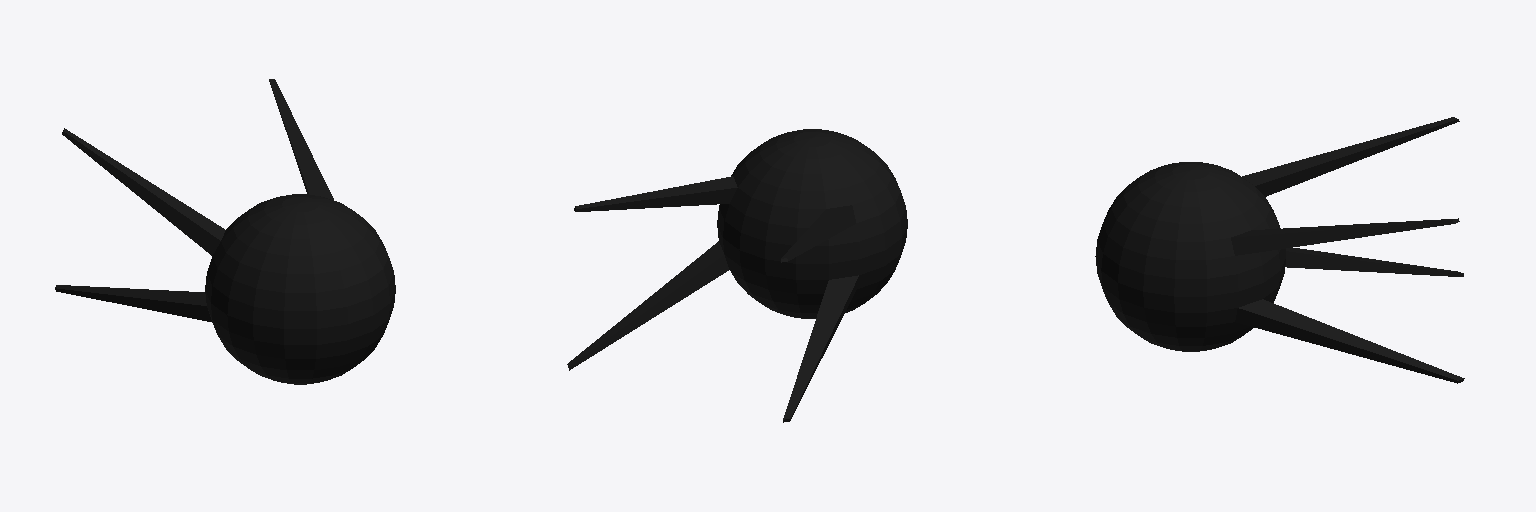
File: satellite.obj
3 views of the same model, side by side, from view 1: azimuth 30°, elevation 25°; view 2: azimuth 150°, elevation 25°; view 3: azimuth 270°, elevation 25° (orthographic).
Visible parts, largest first — view 1: Sphere; view 2: Sphere; view 3: Sphere.
Boxes of the visible parts, <box> form: Sphere: <box>55,79,395,384</box>; Sphere: <box>567,129,907,422</box>; Sphere: <box>1095,117,1464,383</box>.
Size of the model in its own units: 2.71 by 2.02 by 3.87.